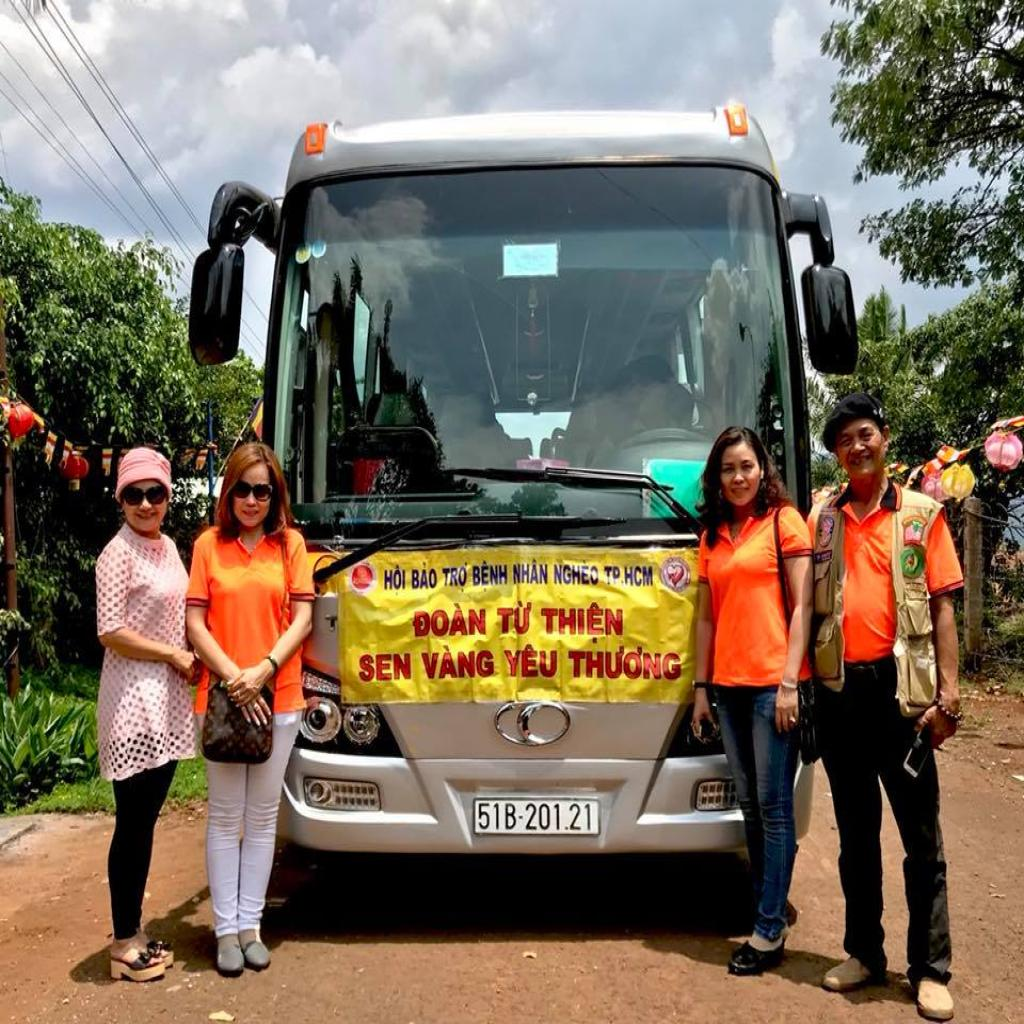text: (565, 644, 684, 687), (476, 798, 600, 836), (538, 601, 626, 645), (419, 644, 496, 683), (412, 602, 490, 639), (502, 642, 561, 680), (357, 650, 413, 684), (552, 558, 600, 589), (496, 600, 535, 638), (603, 562, 655, 590), (470, 559, 510, 594), (511, 558, 548, 589), (440, 562, 470, 594), (408, 561, 438, 592), (382, 563, 407, 597)
